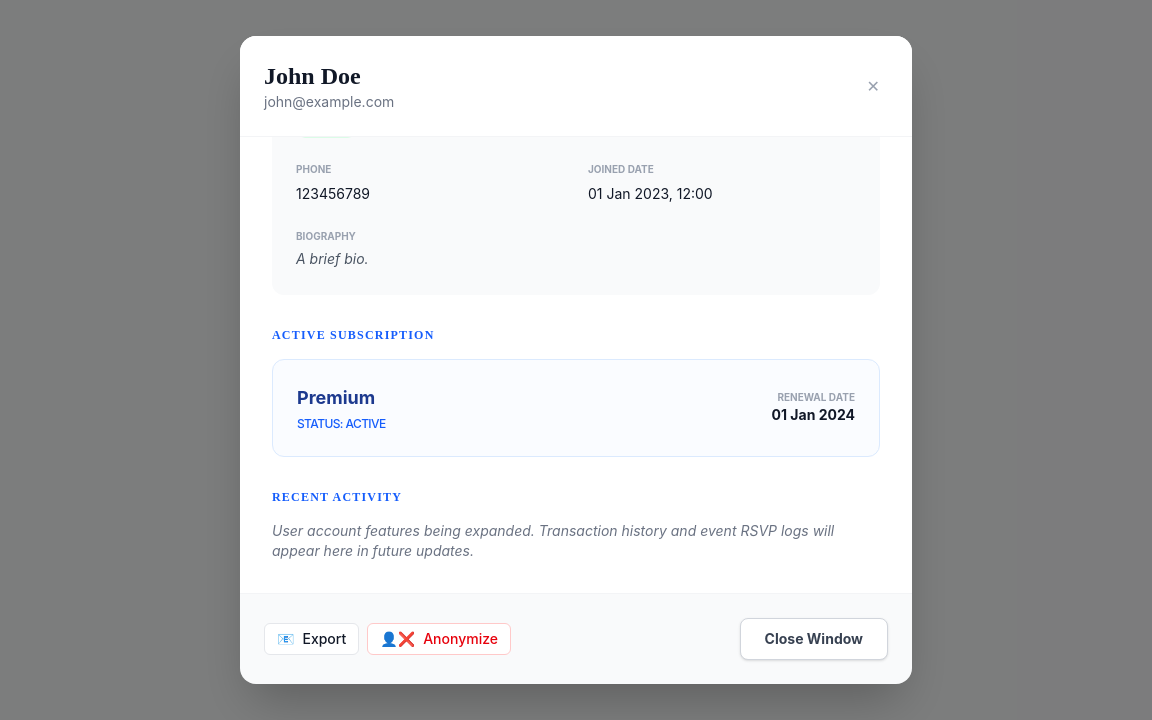
Scenario: UserDetailsModal › should handle export error
(page scrolled)
Click the button "📧 Export".
click(312, 639)  # box 264,623 -> 359,655
(page scrolled)
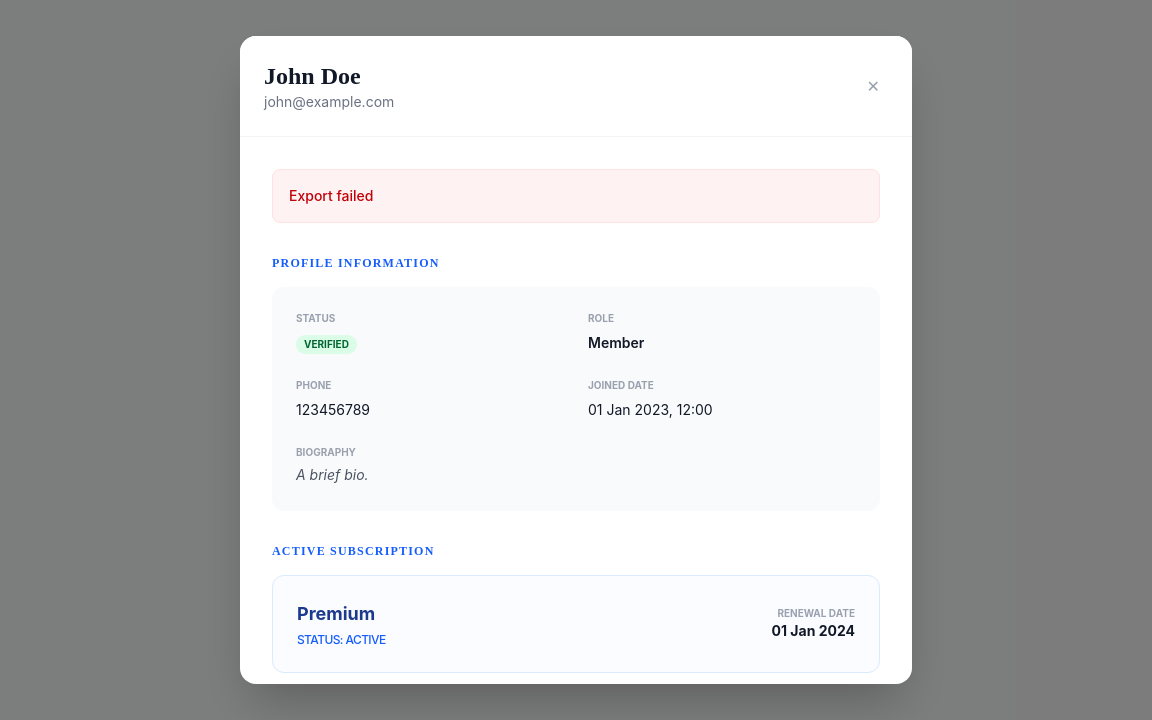
Result: the text "Export failed" is shown at 272,169 -> 880,223
